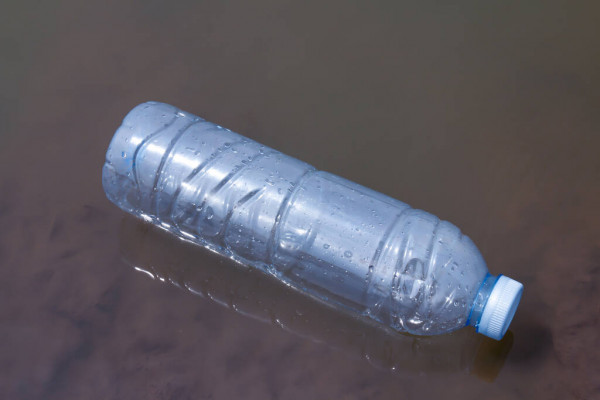plastic_bottle: (75, 35, 566, 387)
